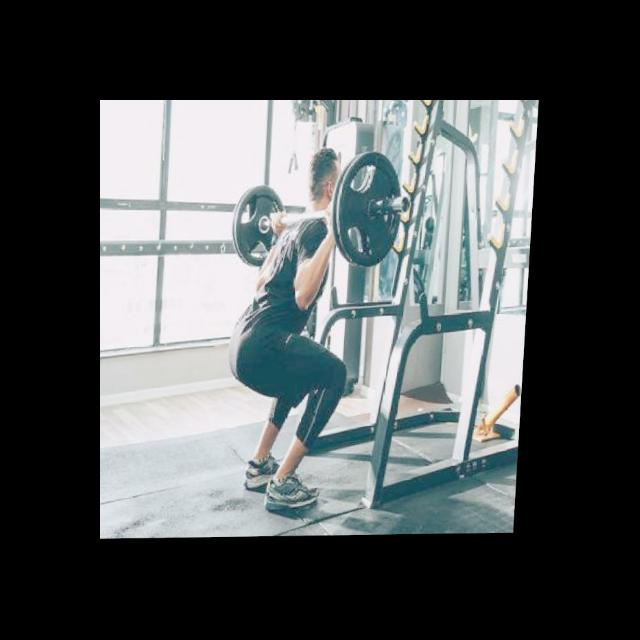barbell: (335, 150, 414, 272)
